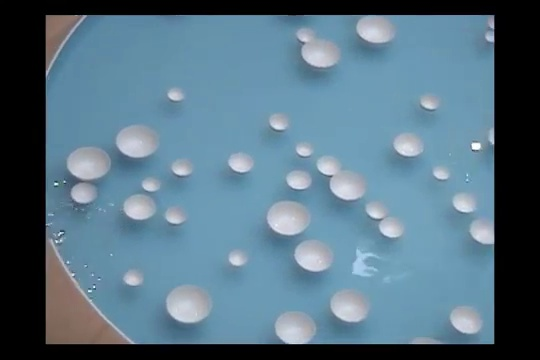bowl: (164, 281, 212, 325), (115, 123, 163, 161), (63, 145, 112, 181), (264, 199, 311, 235), (293, 237, 336, 273), (273, 310, 318, 344), (355, 14, 397, 47), (328, 290, 372, 321), (300, 40, 342, 72), (330, 171, 368, 201), (448, 304, 484, 335), (121, 195, 160, 223), (392, 131, 425, 158), (69, 182, 102, 207), (468, 217, 494, 248), (226, 151, 256, 175), (451, 190, 479, 214), (164, 204, 192, 228), (316, 154, 342, 178), (362, 197, 389, 220), (377, 217, 405, 239), (286, 169, 313, 191), (170, 158, 197, 180), (226, 246, 251, 268), (121, 267, 147, 287), (267, 111, 291, 132), (418, 91, 440, 113), (295, 24, 317, 43), (140, 176, 162, 193), (432, 164, 451, 181), (167, 87, 187, 103), (294, 142, 314, 157), (408, 336, 441, 344), (484, 28, 495, 45), (487, 126, 494, 147), (488, 15, 495, 30)
